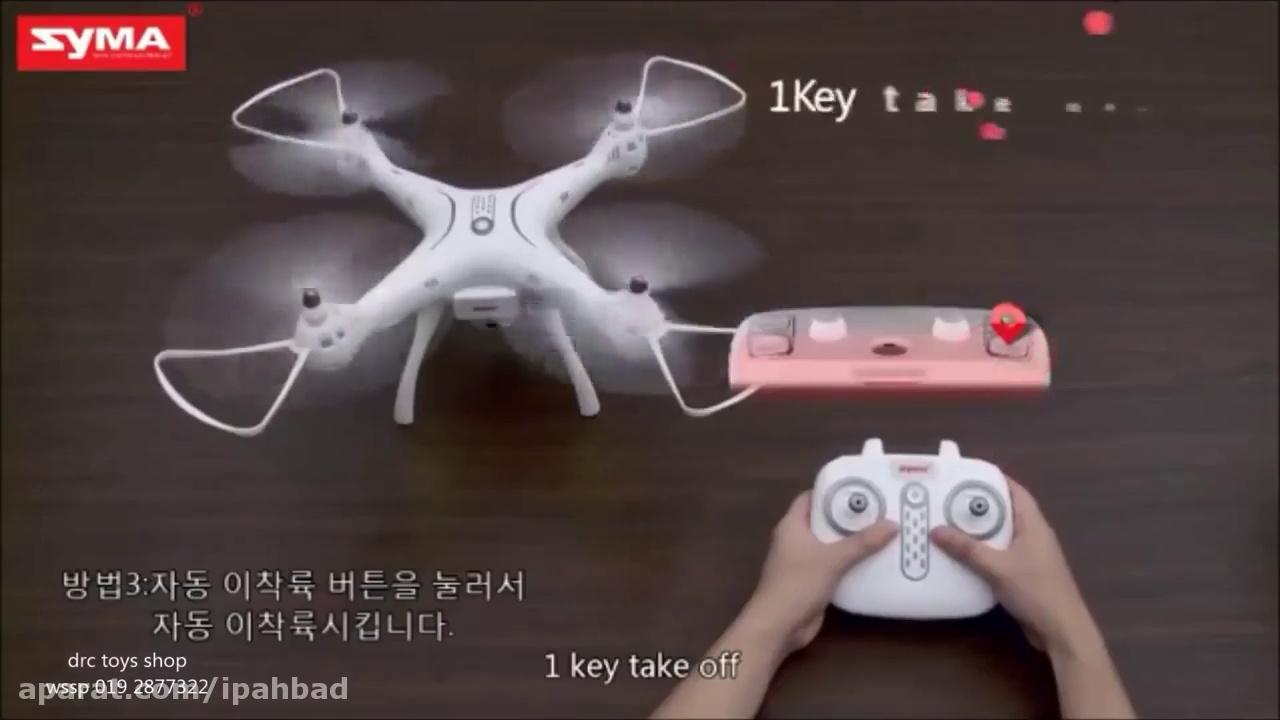drone: (147, 48, 769, 452)
